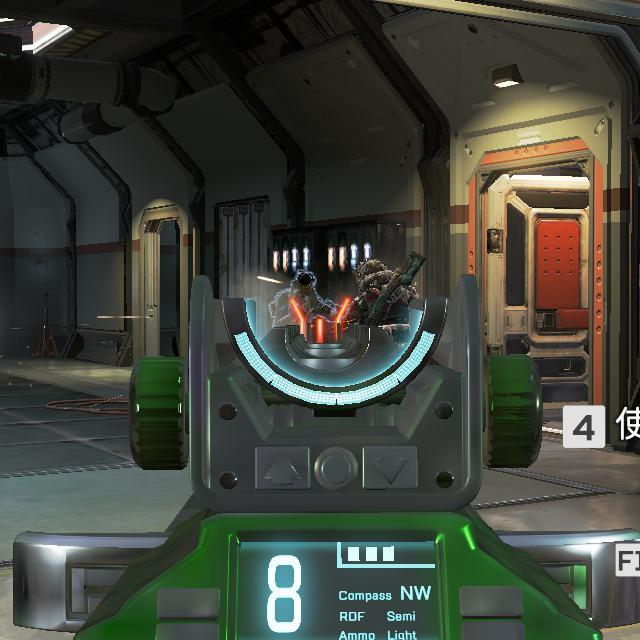avatar: (350, 256, 421, 346)
